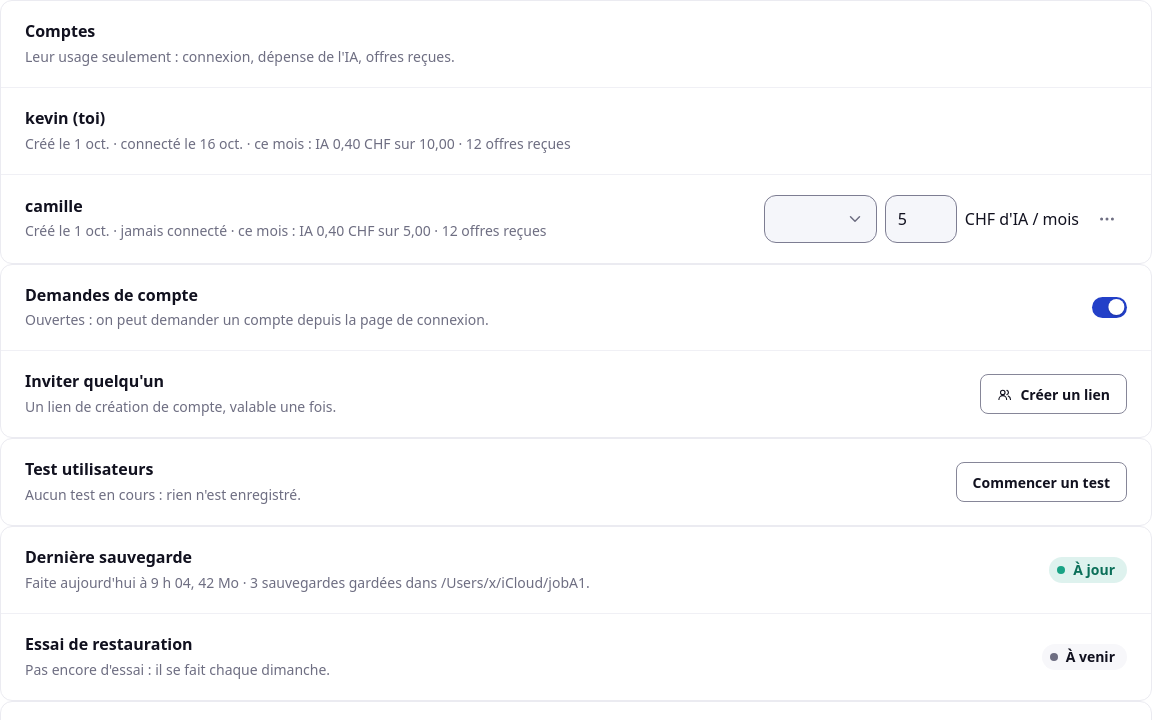
Test case: Plateforme (docs/65 §5) › une invitation : le lien, montré une fois
This screenshot has width=1152, height=720.
Click the button with test id "invite". click: (1054, 394)
box: 980,374 -> 1127,414
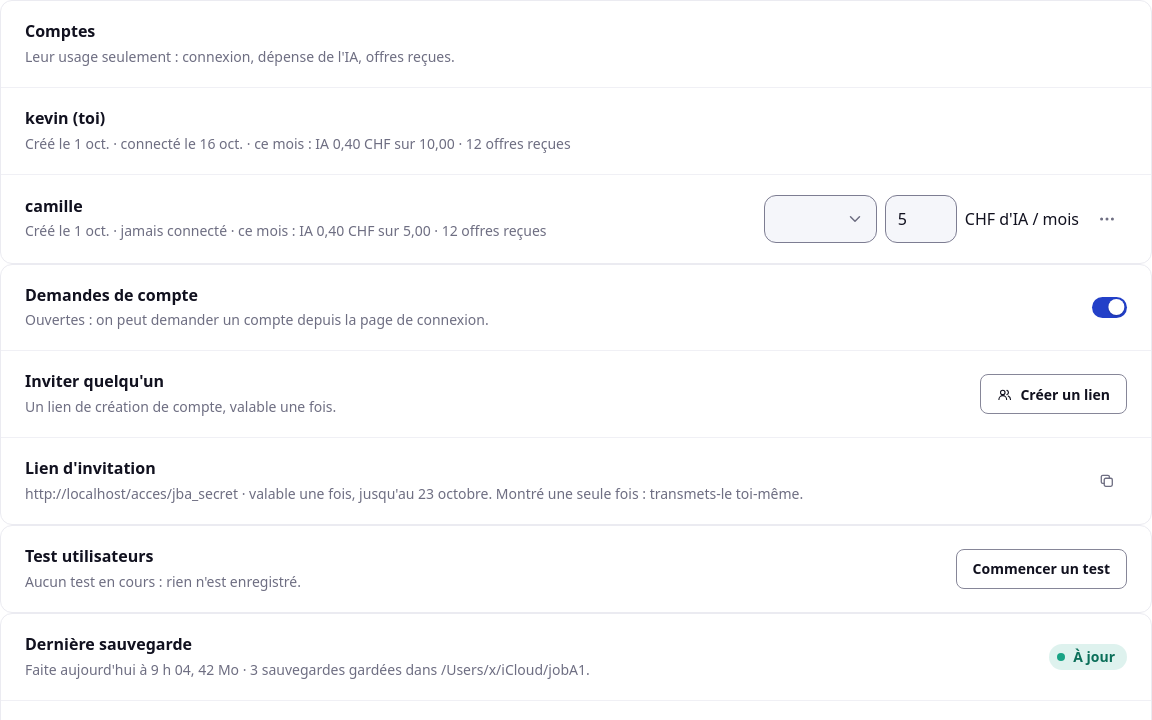
Expected: the element with test id "platform-link" shows "/acces/jba_secret", 25,484 -> 803,503
